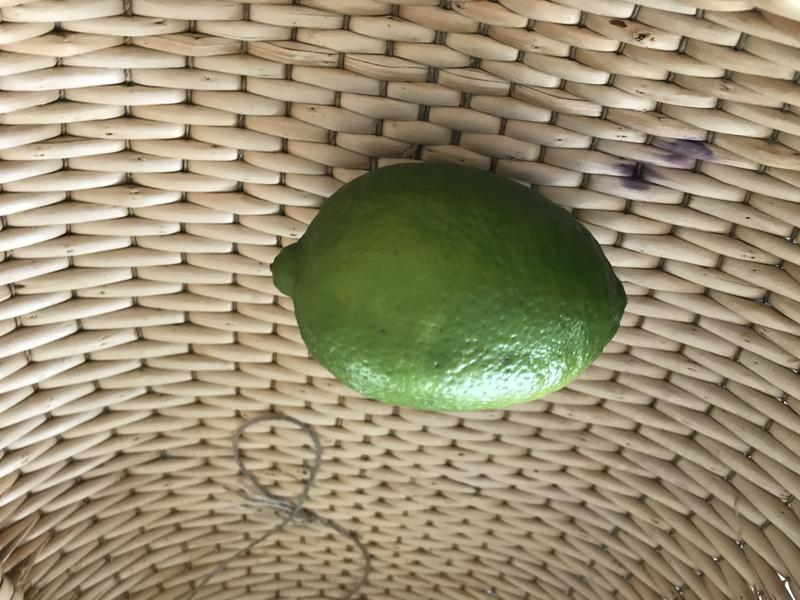lime: (259, 150, 641, 418)
